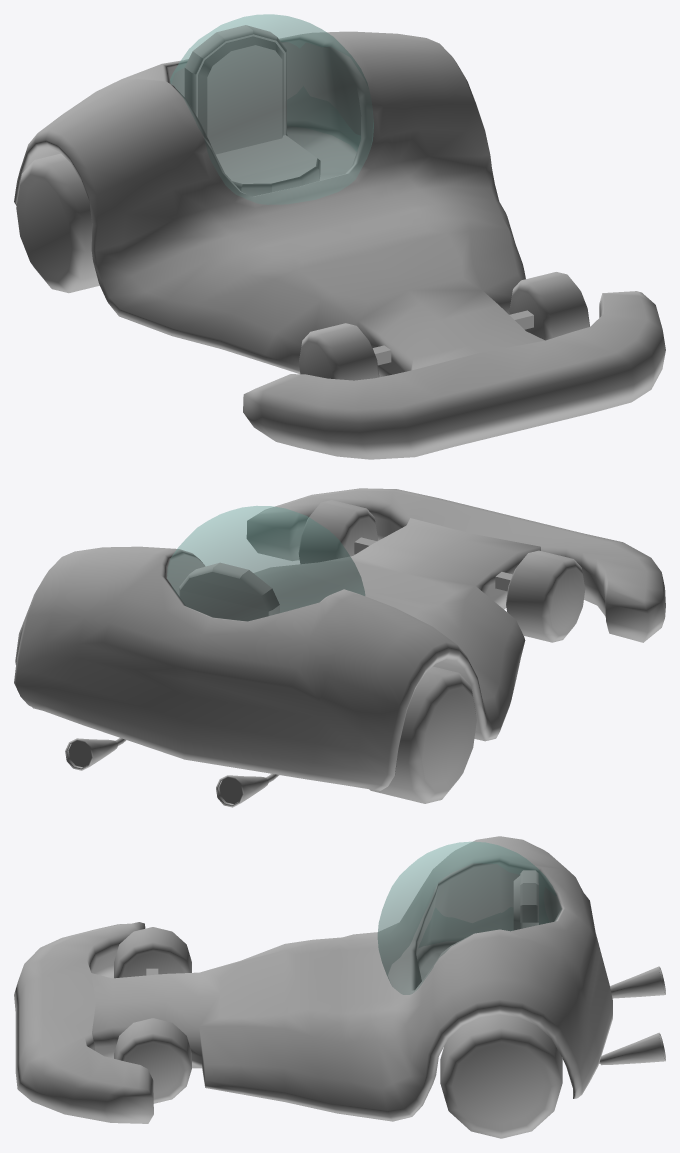
Rendered from Kart_Ayah.fbx.
The picture shows the model from 3 angles, top to bottom: view 1: azimuth 30°, elevation 25°; view 2: azimuth 150°, elevation 25°; view 3: azimuth 270°, elevation 25°; orthographic projection. The views are drawn at different scales.
Parts seen in each view (by area): view 1: polySurface1, RodaTDir_Mesh, RodaFEsq_Mesh, RodaFDir_Mesh; view 2: polySurface1, RodaTDir_Mesh, RodaFDir_Mesh, RodaFEsq_Mesh; view 3: polySurface1, RodaTEsq_Mesh, RodaFEsq_Mesh, RodaFDir_Mesh.
Boxes of the visible parts, left/top/right/bottom form: polySurface1: left=14, top=14, right=665, bottom=459; RodaTDir_Mesh: left=16, top=153, right=99, bottom=293; RodaFEsq_Mesh: left=509, top=272, right=589, bottom=340; RodaFDir_Mesh: left=299, top=323, right=379, bottom=380; polySurface1: left=14, top=488, right=665, bottom=807; RodaTDir_Mesh: left=369, top=666, right=476, bottom=803; RodaFDir_Mesh: left=506, top=550, right=585, bottom=642; RodaFEsq_Mesh: left=298, top=500, right=377, bottom=563; polySurface1: left=14, top=836, right=665, bottom=1123; RodaTEsq_Mesh: left=440, top=1014, right=562, bottom=1138; RodaFEsq_Mesh: left=114, top=1018, right=191, bottom=1103; RodaFDir_Mesh: left=114, top=927, right=191, bottom=978.
Size of the model in its own units: 3.58 by 1.88 by 5.49.
